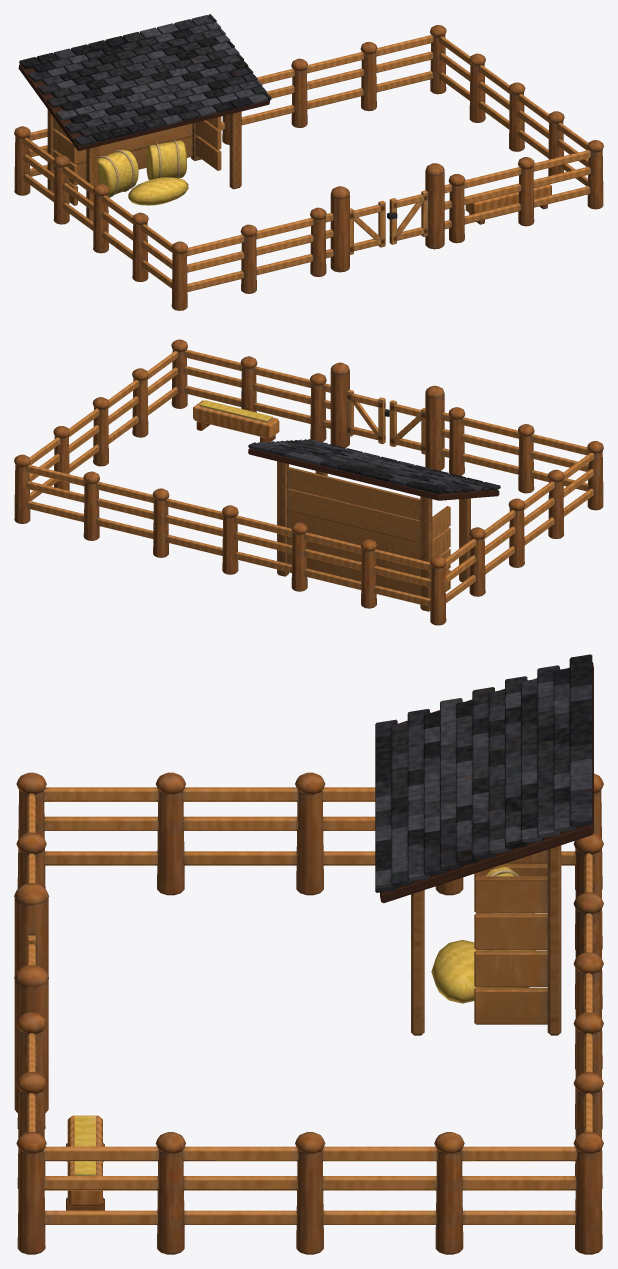
File: dexter_pasture.glb
The picture shows the model from 3 angles, top to bottom: view 1: azimuth 30°, elevation 25°; view 2: azimuth 150°, elevation 25°; view 3: azimuth 270°, elevation 25°; orthographic projection. The views are drawn at different scales.
Parts seen in each view (by area): view 1: dexter_pasture, gate1, gate0; view 2: dexter_pasture, gate1, gate0; view 3: dexter_pasture.
Boxes of the visible parts, x1,y1,x2,y2 form: dexter_pasture: (14, 14, 603, 310); gate1: (387, 190, 428, 244); gate0: (350, 200, 385, 254); dexter_pasture: (14, 339, 603, 625); gate1: (347, 389, 389, 444); gate0: (389, 400, 425, 454); dexter_pasture: (14, 654, 603, 1254).
Bounding box in the file's own units: 3 × 0.9343 × 2.01.
Materials: 1 (1 with a texture image).
